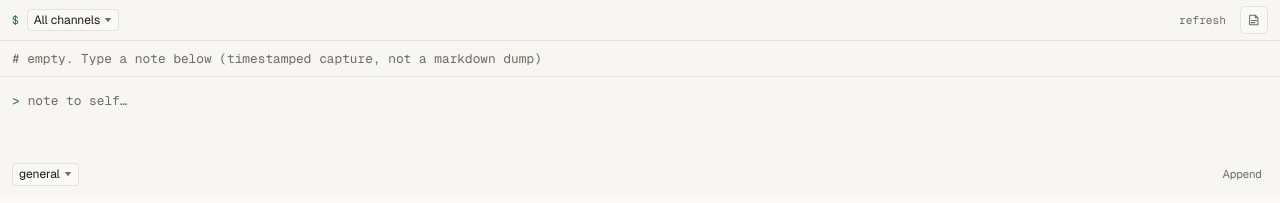
it: ShellChat composer › uses the app sans font for the Notes manager menu
Step 1. Click the button named "Notes manager" → coordinates (1254, 20), box x1=1240 y1=6 x2=1268 y2=34
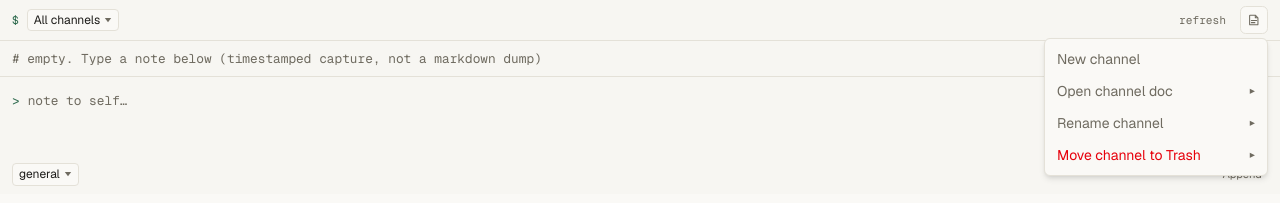
Now the menu is shown, box x1=1044 y1=38 x2=1268 y2=176
Now the menu shows "New channel", box x1=1045 y1=43 x2=1267 y2=75
